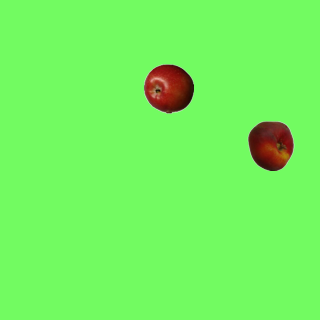Apple Braeburn: (143, 63, 193, 113)
Nectarine Flat: (245, 120, 295, 170)
